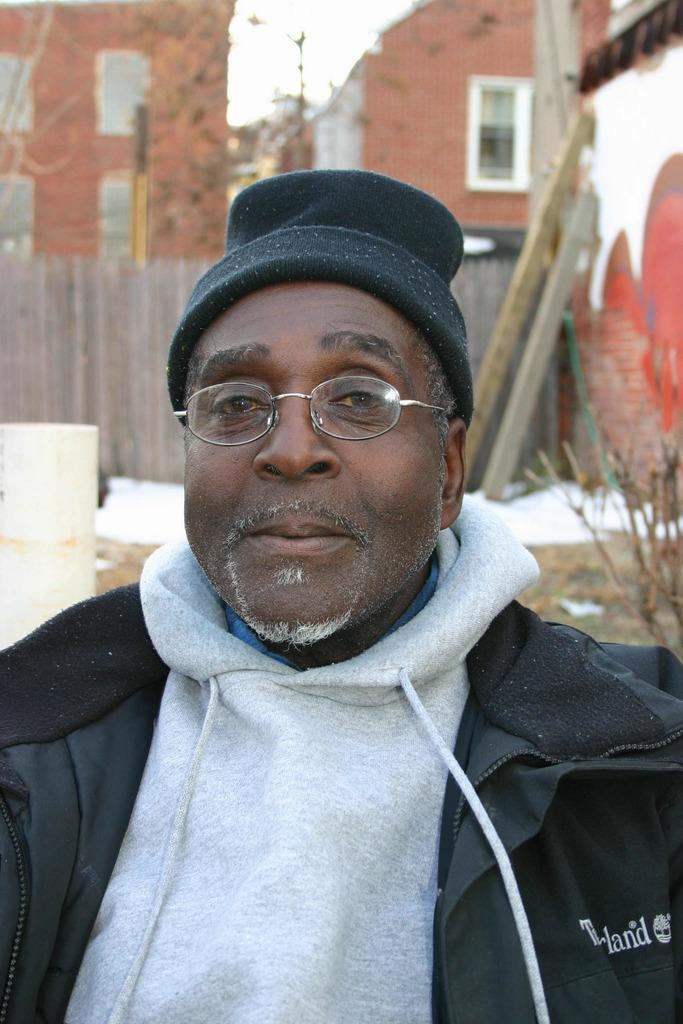Hat: (166, 166, 471, 424)
